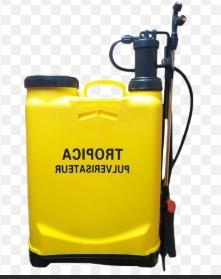PULVERISATEUR: (0, 0, 199, 279)
